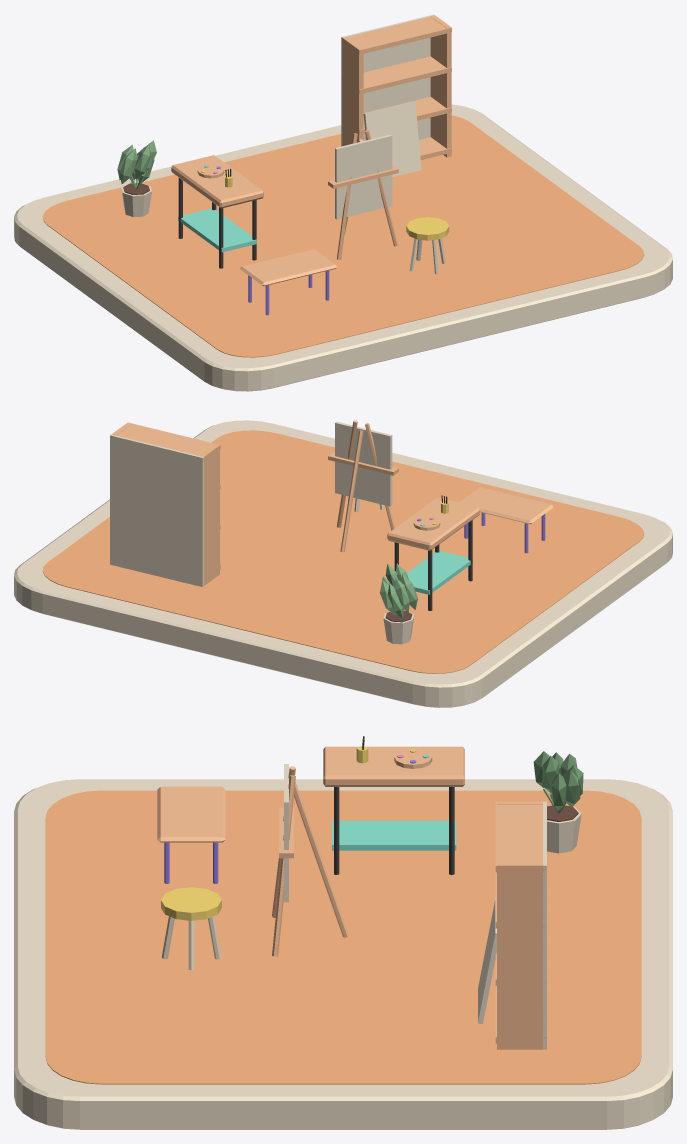
The picture shows the model from 3 angles, top to bottom: view 1: azimuth 30°, elevation 25°; view 2: azimuth 150°, elevation 25°; view 3: azimuth 270°, elevation 25°; orthographic projection. The views are drawn at different scales.
Visible parts, largest first — view 1: COM-02 Floor Surface, COM-01 Rounded Base Direct, Canvas, Back, Blank canvas, Worktop, Pot, Side.003, Side.002, Rounded table top, Shelf.003, Shelf.002 (+3 smaller); view 2: COM-02 Floor Surface, COM-01 Rounded Base Direct, Back, Canvas, Worktop, Pot, Side.002, Rounded table top, Lower shelf, Shelf.003, Rear leg; view 3: COM-02 Floor Surface, COM-01 Rounded Base Direct, Side.003, Worktop, Rounded table top, Lower shelf, Pot, Shelf.003, Seat, Blank canvas, Rear leg, Back (+3 smaller).
Boxes of the visible parts, <box> form: COM-02 Floor Surface: <box>42,115,644,357</box>; COM-01 Rounded Base Direct: <box>14,104,672,391</box>; Canvas: <box>335,134,392,219</box>; Back: <box>341,14,434,146</box>; Blank canvas: <box>363,101,421,176</box>; Worktop: <box>171,155,263,208</box>; Pot: <box>117,140,156,216</box>; Side.003: <box>430,15,451,157</box>; Side.002: <box>342,37,363,145</box>; Rounded table top: <box>240,249,337,286</box>; Shelf.003: <box>341,17,451,54</box>; Shelf.002: <box>341,56,451,94</box>; COM-02 Floor Surface: <box>42,430,644,673</box>; COM-01 Rounded Base Direct: <box>14,420,672,707</box>; Back: <box>110,435,203,586</box>; Canvas: <box>335,421,392,506</box>; Worktop: <box>387,497,479,550</box>; Pot: <box>379,563,417,644</box>; Side.002: <box>199,444,219,585</box>; Rounded table top: <box>459,487,553,524</box>; Lower shelf: <box>406,551,472,594</box>; Shelf.003: <box>116,422,220,461</box>; Rear leg: <box>340,430,363,552</box>; COM-02 Floor Surface: <box>45,790,641,1084</box>; COM-01 Rounded Base Direct: <box>14,779,672,1129</box>; Side.003: <box>497,862,544,1049</box>; Worktop: <box>323,746,464,786</box>; Rounded table top: <box>157,786,225,842</box>; Lower shelf: <box>332,820,456,850</box>; Pot: <box>533,751,583,853</box>; Shelf.003: <box>495,801,545,872</box>; Seat: <box>161,887,221,920</box>; Blank canvas: <box>478,898,496,1023</box>; Rear leg: <box>294,782,348,937</box>; Back: <box>543,801,546,1049</box>.
Bounding box in the file's own units: 6 × 1.9 × 5.2.
Materials: 1 (1 with a texture image).
